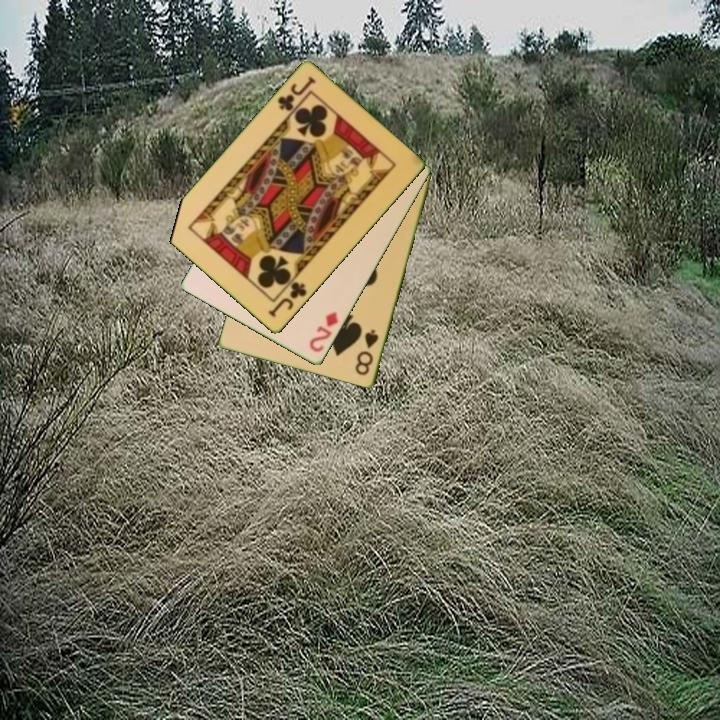2d: (306, 308, 341, 356)
8s: (352, 326, 382, 379)
Jc: (265, 278, 310, 321), (274, 73, 319, 115)
